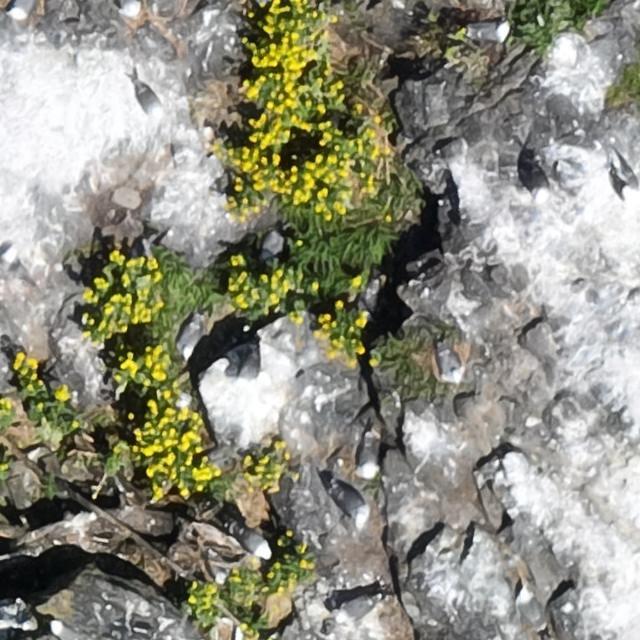umineko: (230, 345, 268, 399), (337, 487, 368, 518), (621, 156, 639, 206), (336, 596, 372, 620), (238, 531, 270, 558), (470, 22, 508, 42), (438, 349, 460, 381), (137, 84, 161, 112), (530, 164, 548, 200), (361, 440, 378, 474), (51, 622, 80, 640), (10, 0, 35, 17)
